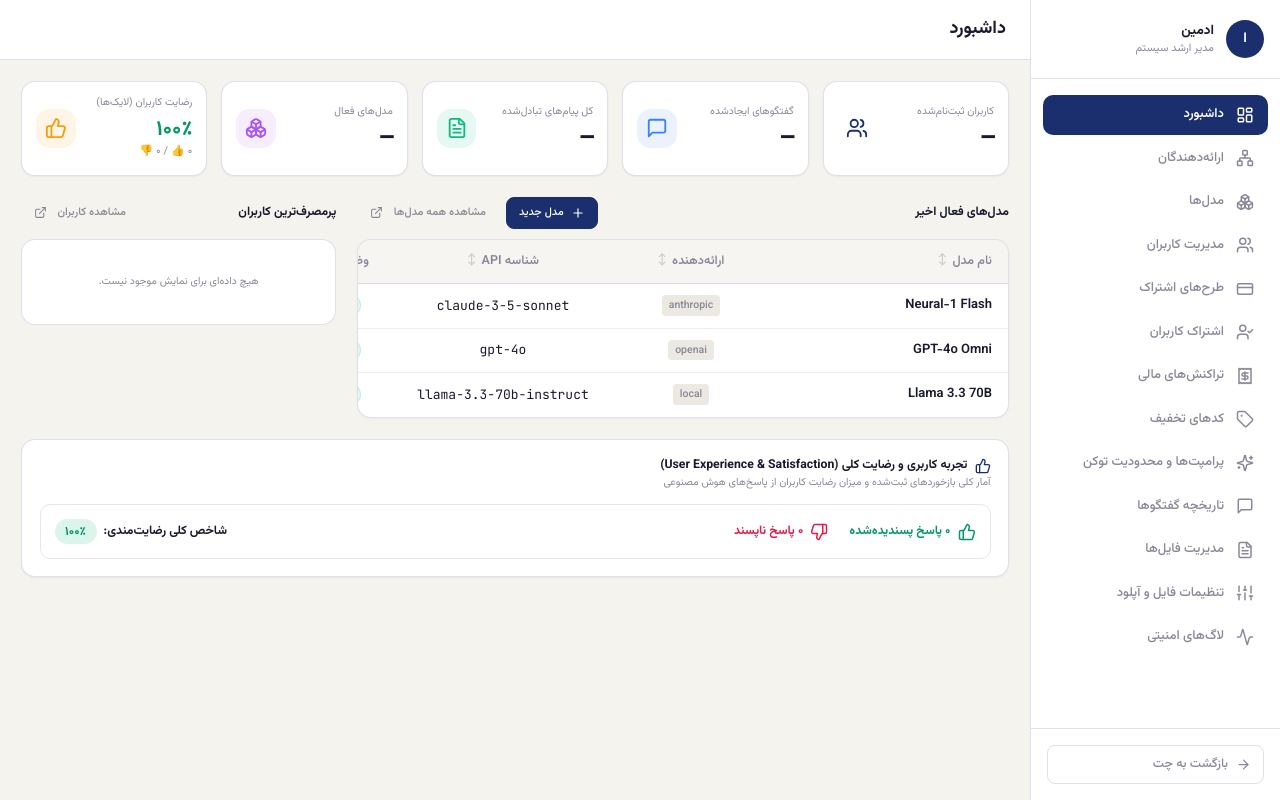
it: AdminModelsView.vue (Dashboard) › renders admin navigation and switches to the users view
The width and height of the screenshot is (1280, 800).
expect the element with class "admin-sidebar" is shown: met, box [1030, 0, 1279, 799]
expect the button "داشبورد" is shown: met, box [1043, 95, 1268, 134]
Click the button "مدیریت کاربران".
click(1156, 245)  # box [1043, 226, 1268, 265]
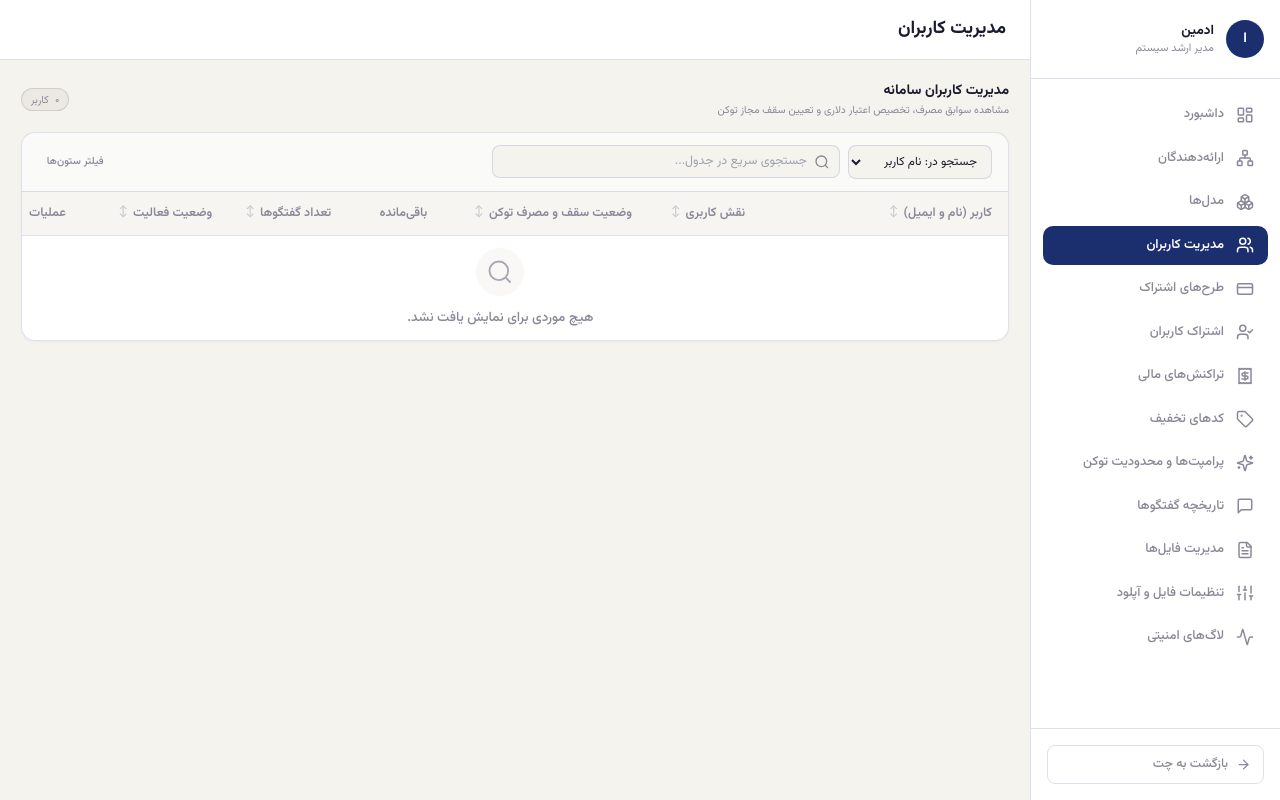
expect the text "کاربران" is shown: met, box [1146, 234, 1224, 254]
expect the element with class "users-panel" is shown: met, box [21, 81, 1009, 341]
